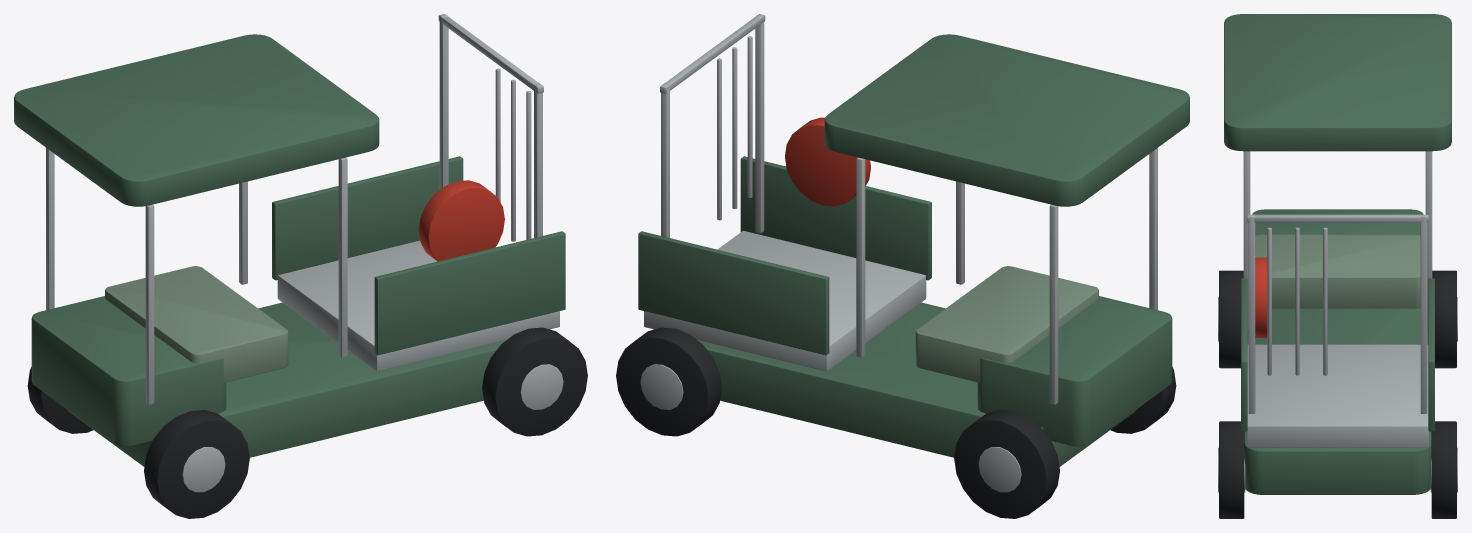
File: maintenance_cart_public.glb
3 views of the same model, side by side, from view 1: azimuth 30°, elevation 25°; view 2: azimuth 150°, elevation 25°; view 3: azimuth 270°, elevation 25° (orthographic). The views are drawn at different scales.
Visible parts, largest first — view 1: Canopy_Roof, ServiceCart_Chassis, ServiceCart_Hood, ServiceCart_BedSide_L, ServiceCart_BedSide_R, ServiceCart_Seat, ServiceCart_BedFloor, ServiceWheel_Rear_L_Tire, ServiceWheel_Front_L_Tire, Maintenance_HoseReel, Canopy_Post_1_1, Canopy_Post_2_1 (+11 smaller); view 2: Canopy_Roof, ServiceCart_Chassis, ServiceCart_Hood, ServiceCart_BedSide_R, ServiceCart_BedFloor, ServiceCart_Seat, ServiceCart_BedSide_L, ServiceWheel_Rear_R_Tire, ServiceWheel_Front_R_Tire, Maintenance_HoseReel, ServiceCart_SafetyRackPost_L, Canopy_Post_1_2 (+11 smaller); view 3: Canopy_Roof, ServiceCart_BedFloor, ServiceCart_Chassis, ServiceCart_Seat, ServiceCart_Hood, ServiceWheel_Rear_L_Tire, ServiceWheel_Rear_R_Tire, ServiceWheel_Front_L_Tire, ServiceWheel_Front_R_Tire, ServiceCart_SafetyRackPost_L, ServiceCart_SafetyRackPost_R, ServiceCart_SafetyRackTop (+8 smaller).
Part boxes in pixels (x1=…): Canopy_Roof: x1=14, y1=34, x2=379, y2=206; ServiceCart_Chassis: x1=67, y1=302, x2=506, y2=466; ServiceCart_Hood: x1=31, y1=296, x2=226, y2=446; ServiceCart_BedSide_L: x1=374, y1=231, x2=565, y2=355; ServiceCart_BedSide_R: x1=272, y1=156, x2=463, y2=280; ServiceCart_Seat: x1=105, y1=266, x2=288, y2=382; ServiceCart_BedFloor: x1=277, y1=240, x2=559, y2=371; ServiceWheel_Rear_L_Tire: x1=482, y1=327, x2=587, y2=436; ServiceWheel_Front_L_Tire: x1=144, y1=410, x2=249, y2=518; Maintenance_HoseReel: x1=418, y1=180, x2=504, y2=261; Canopy_Post_1_1: x1=145, y1=204, x2=154, y2=404; Canopy_Post_2_1: x1=338, y1=157, x2=347, y2=357; Canopy_Roof: x1=824, y1=34, x2=1189, y2=206; ServiceCart_Chassis: x1=697, y1=302, x2=1136, y2=466; ServiceCart_Hood: x1=977, y1=296, x2=1172, y2=446; ServiceCart_BedSide_R: x1=638, y1=231, x2=829, y2=355; ServiceCart_BedFloor: x1=644, y1=230, x2=926, y2=371; ServiceCart_Seat: x1=915, y1=266, x2=1098, y2=382; ServiceCart_BedSide_L: x1=740, y1=156, x2=931, y2=280; ServiceWheel_Rear_R_Tire: x1=616, y1=327, x2=721, y2=436; ServiceWheel_Front_R_Tire: x1=954, y1=410, x2=1059, y2=518; Maintenance_HoseReel: x1=785, y1=117, x2=870, y2=206; ServiceCart_SafetyRackPost_L: x1=755, y1=14, x2=764, y2=233; Canopy_Post_1_2: x1=1049, y1=204, x2=1058, y2=404; Canopy_Roof: x1=1224, y1=14, x2=1451, y2=151; ServiceCart_BedFloor: x1=1247, y1=344, x2=1428, y2=447; ServiceCart_Chassis: x1=1244, y1=308, x2=1431, y2=494; ServiceCart_Seat: x1=1255, y1=234, x2=1420, y2=308; ServiceCart_Hood: x1=1252, y1=209, x2=1423, y2=235; ServiceWheel_Rear_L_Tire: x1=1219, y1=421, x2=1244, y2=518; ServiceWheel_Rear_R_Tire: x1=1431, y1=421, x2=1456, y2=518; ServiceWheel_Front_L_Tire: x1=1219, y1=270, x2=1243, y2=368; ServiceWheel_Front_R_Tire: x1=1432, y1=270, x2=1456, y2=368; ServiceCart_SafetyRackPost_L: x1=1248, y1=214, x2=1255, y2=413; ServiceCart_SafetyRackPost_R: x1=1420, y1=214, x2=1427, y2=413; ServiceCart_SafetyRackTop: x1=1247, y1=214, x2=1428, y2=222.
Size of what is drawn, in the model's own units: 2.54 by 1.86 by 1.27.
